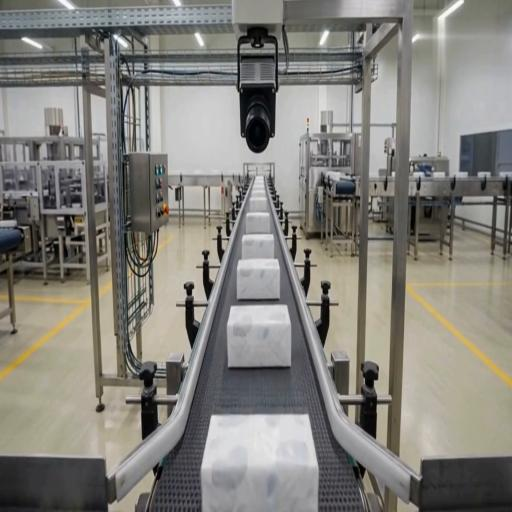good: (201, 415, 318, 511), (227, 305, 292, 368), (237, 259, 279, 300), (242, 235, 275, 260), (246, 213, 270, 234), (250, 197, 268, 212), (251, 190, 266, 199), (252, 185, 266, 192), (253, 182, 265, 190), (255, 176, 264, 182)
